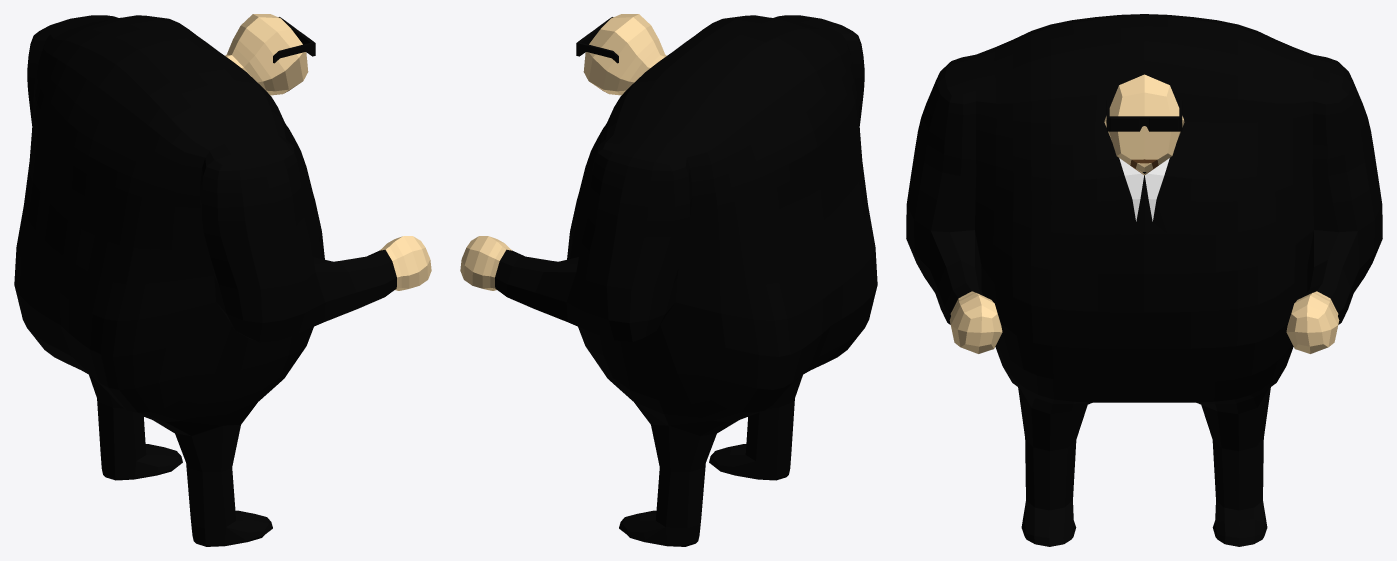
File: taxman_1.fbx
The picture shows the model from 3 angles, left to right: view 1: azimuth 30°, elevation 25°; view 2: azimuth 150°, elevation 25°; view 3: azimuth 270°, elevation 25°; orthographic projection. The views are drawn at different scales.
Visible parts, largest first — view 1: taxman, glasses; view 2: taxman, glasses; view 3: taxman, glasses.
Part boxes in pixels (box(x1,y1,x2,y2)): taxman: box(14, 14, 431, 546); glasses: box(273, 17, 315, 63); taxman: box(460, 14, 877, 546); glasses: box(576, 17, 618, 63); taxman: box(906, 14, 1382, 546); glasses: box(1106, 99, 1182, 131).
Size of the model in its own units: 828 by 1276 by 1119.
